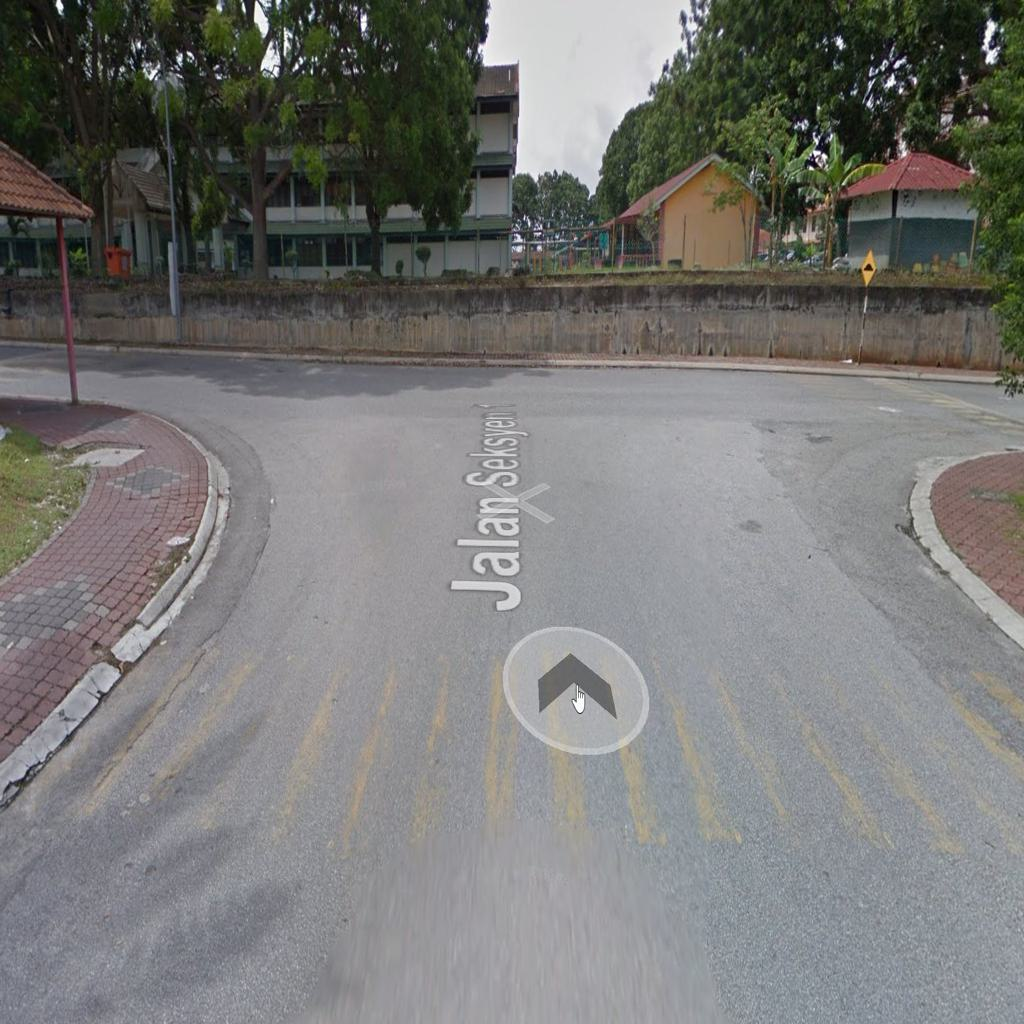Junction: (1, 278, 369, 562), (787, 327, 1018, 585)
